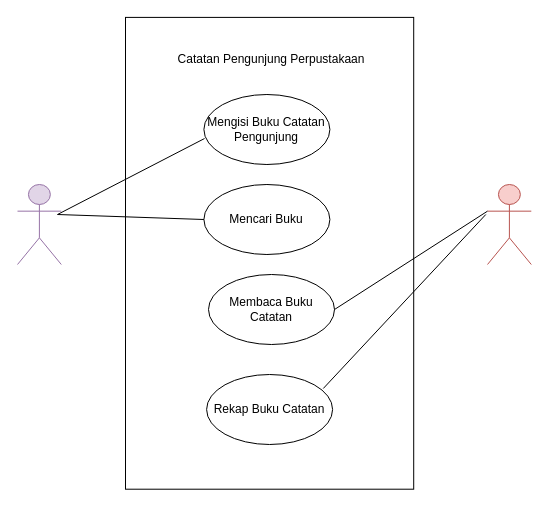
The diagram is 559 pixels wide and 507 high, and some of its shapes have lost their labels. The shapes that lost their labels are listed below. From the top down, each one's centre as x and y in pixels, then its label:
At (38,224): "User".
At (508,224): "Pustakawan".
